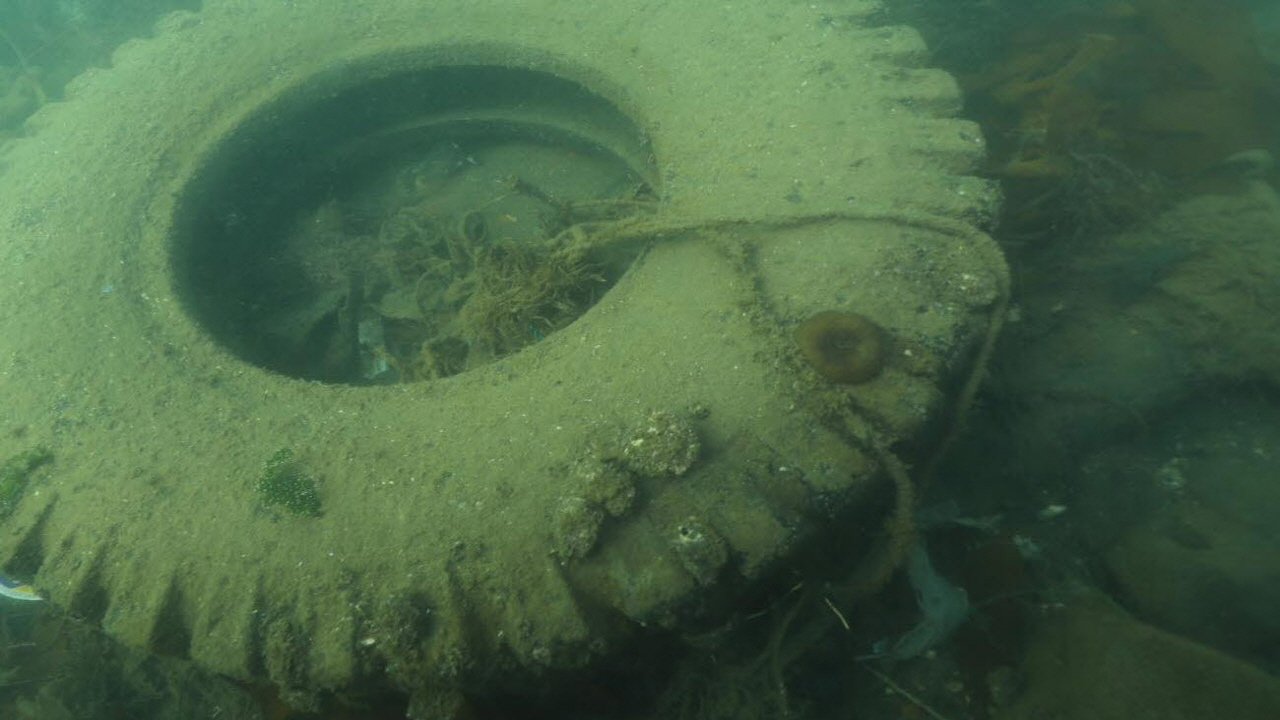bundle of ropes: (592, 192, 1020, 720)
tire: (0, 0, 1004, 714)
